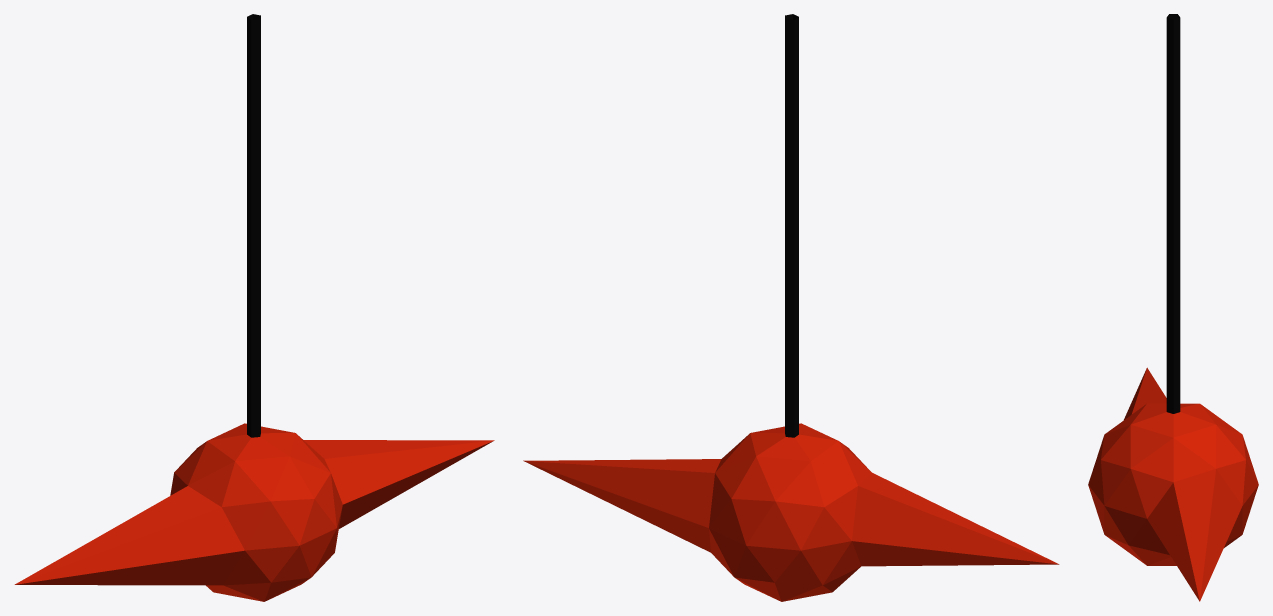
File: boule.fbx
3 renders of one model, left to right at view 1: azimuth 30°, elevation 25°; view 2: azimuth 150°, elevation 25°; view 3: azimuth 270°, elevation 25°, orthographic. The views are drawn at different scales.
Visible parts, largest first — view 1: Icosphere; view 2: Icosphere; view 3: Icosphere.
Part boxes in pixels (x1,y1,x2,y2): Icosphere: (14,14,494,601); Icosphere: (523,14,1059,601); Icosphere: (1088,14,1258,601).
Size of the model in its own units: 650 by 705 by 200.
